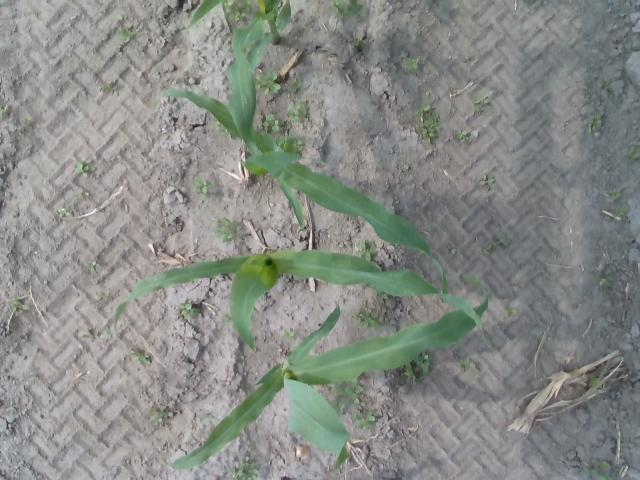Maize: (160, 11, 448, 294), (166, 272, 488, 473), (116, 250, 486, 350), (185, 1, 292, 44)
Weeds: (417, 106, 441, 144), (235, 456, 258, 480), (333, 0, 364, 16), (215, 219, 237, 239), (355, 412, 379, 430), (358, 308, 379, 328), (260, 72, 280, 92), (288, 104, 308, 122), (262, 114, 282, 132), (75, 158, 94, 176), (484, 239, 506, 252), (358, 243, 379, 256), (461, 357, 478, 373), (192, 180, 214, 192), (152, 410, 172, 422), (180, 302, 200, 314), (346, 385, 364, 398), (332, 395, 348, 409), (118, 29, 133, 42), (101, 82, 118, 93), (141, 352, 155, 365), (12, 300, 30, 310), (504, 308, 518, 320), (418, 358, 432, 370), (290, 78, 302, 92), (480, 175, 492, 188), (406, 58, 419, 70), (628, 146, 639, 160), (600, 460, 612, 472), (592, 114, 602, 128), (598, 79, 610, 90), (406, 366, 416, 379), (59, 209, 73, 218), (293, 141, 305, 151), (476, 95, 489, 104), (78, 185, 88, 196), (88, 257, 100, 266), (614, 208, 624, 218), (458, 130, 468, 140), (590, 377, 600, 386), (284, 328, 294, 337), (378, 290, 387, 300), (86, 330, 97, 338), (598, 278, 610, 285), (25, 119, 34, 127), (612, 189, 620, 198), (1, 106, 9, 115)
